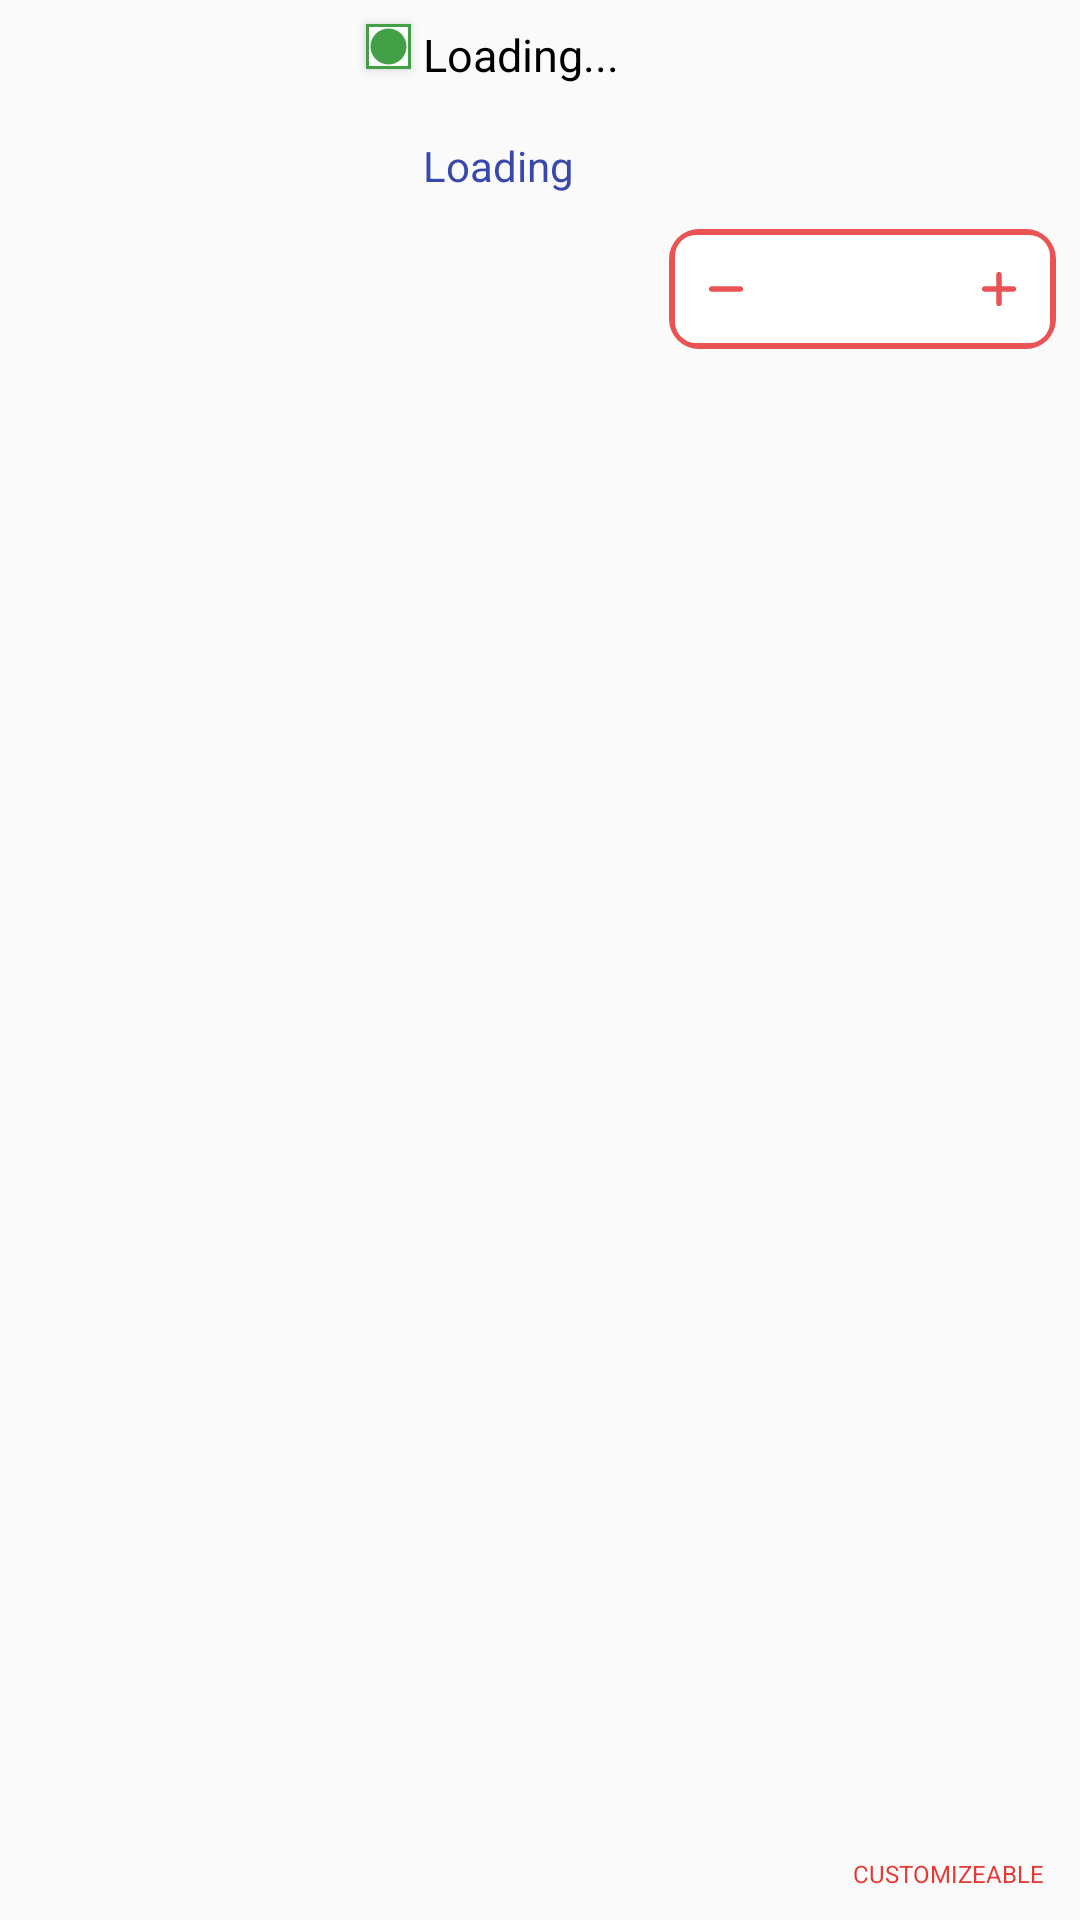

Where icons sit on this 1080 x 1920 app screen, as (x1, y1, x2, y2):
minus: (709, 286, 743, 292)
plus: (982, 272, 1016, 306)
veg: (366, 24, 411, 69)
